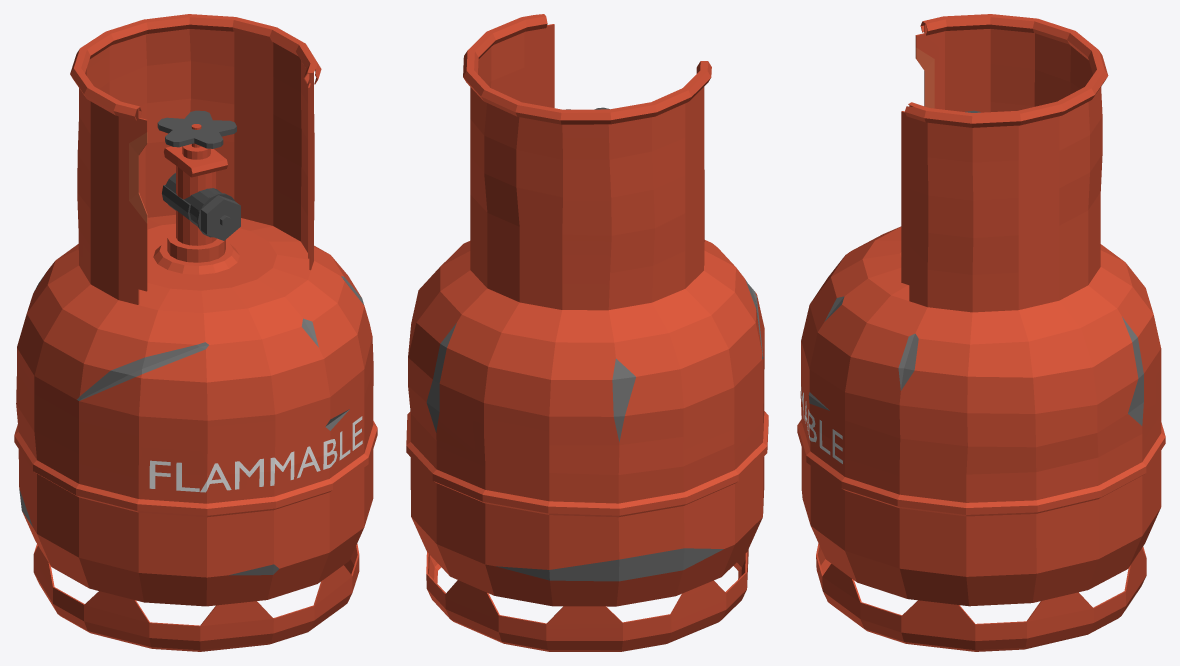
File: SM_GAS_CYLINDER_02.fbx
The picture shows the model from 3 angles, left to right: view 1: azimuth 30°, elevation 25°; view 2: azimuth 150°, elevation 25°; view 3: azimuth 270°, elevation 25°; orthographic projection.
Visible parts, largest first — view 1: SM_GAS_CYLINDER_02; view 2: SM_GAS_CYLINDER_02; view 3: SM_GAS_CYLINDER_02.
Part boxes in pixels (left/top/right/bottom): SM_GAS_CYLINDER_02: left=14, top=14, right=377, bottom=651; SM_GAS_CYLINDER_02: left=406, top=14, right=768, bottom=651; SM_GAS_CYLINDER_02: left=797, top=14, right=1165, bottom=651.
Size of the model in its own units: 33.13 by 52.69 by 33.69.
